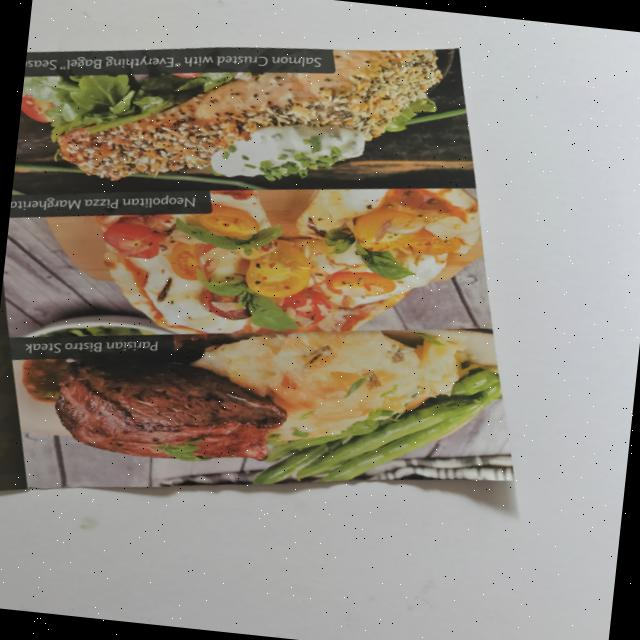paper: (0, 2, 559, 554)
